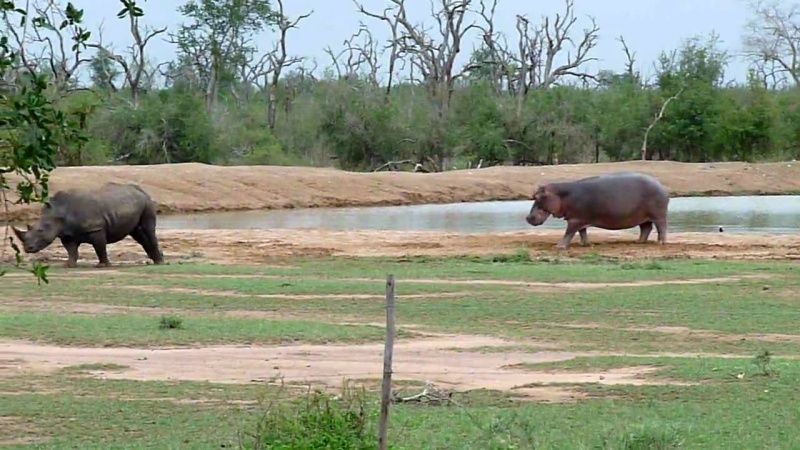hipopotamo: (525, 170, 676, 255)
